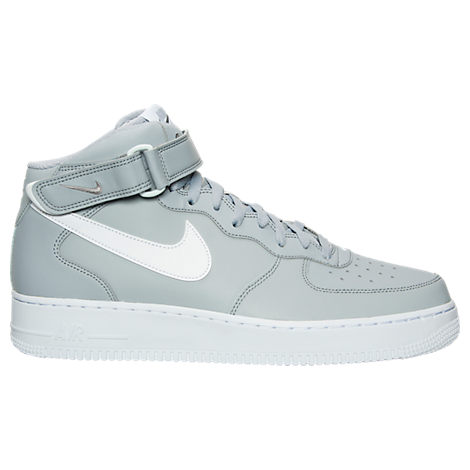nike: (59, 202, 212, 281)
